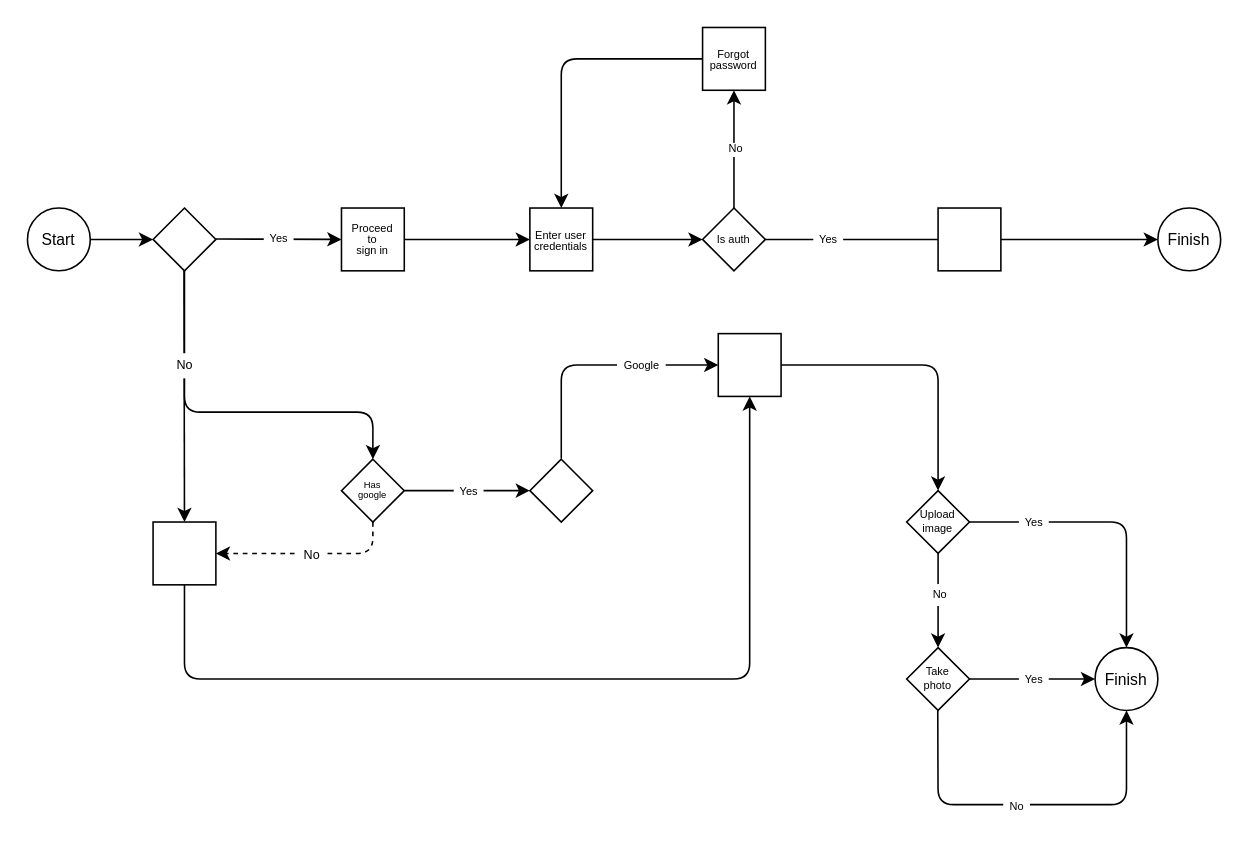
Some shapes in this 1248 by 845 pixel diagram are drawn without their labels. The centre of each missing label's shape, as x and y in pixels:
"Has account" belongs at (x=184, y=238).
"Proceed to profile" belongs at (x=969, y=238).
"Proceed to user profile" belongs at (x=749, y=364).
"Register user" belongs at (x=184, y=552).
"Select Google" belongs at (x=560, y=490).
